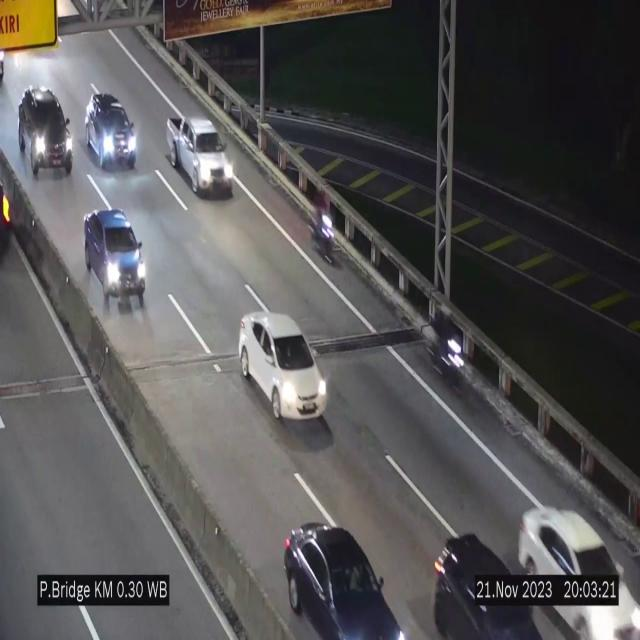Car: (517, 478, 640, 640), (276, 494, 410, 640), (417, 529, 542, 640), (239, 308, 328, 429), (81, 204, 148, 304), (165, 108, 238, 198), (16, 84, 75, 180), (85, 92, 137, 168)
Motorcycle: (428, 304, 466, 393), (312, 188, 334, 263)
